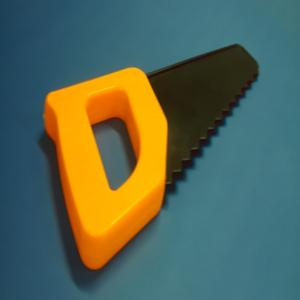serrote: (44, 43, 260, 271)
